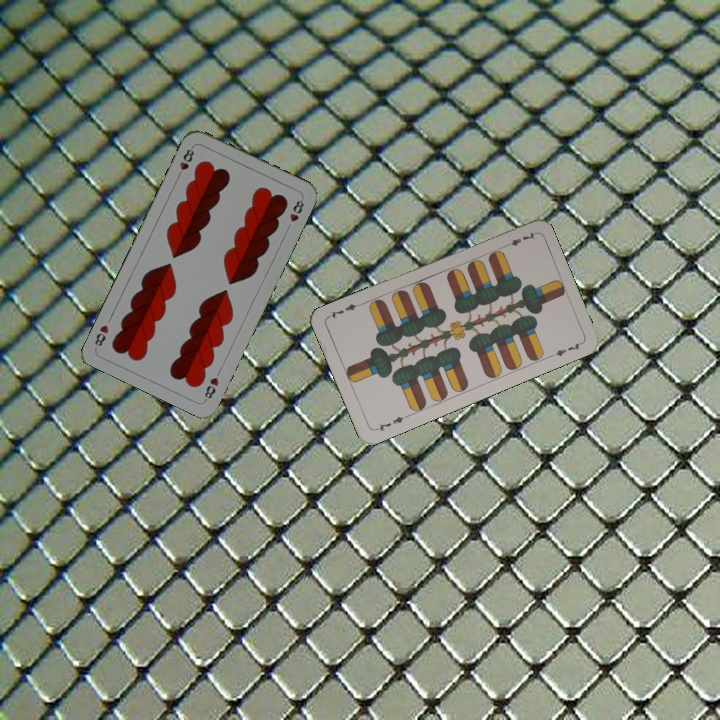E7: (499, 228, 538, 250), (371, 412, 410, 433)
H8: (173, 143, 197, 181), (200, 373, 222, 403)
